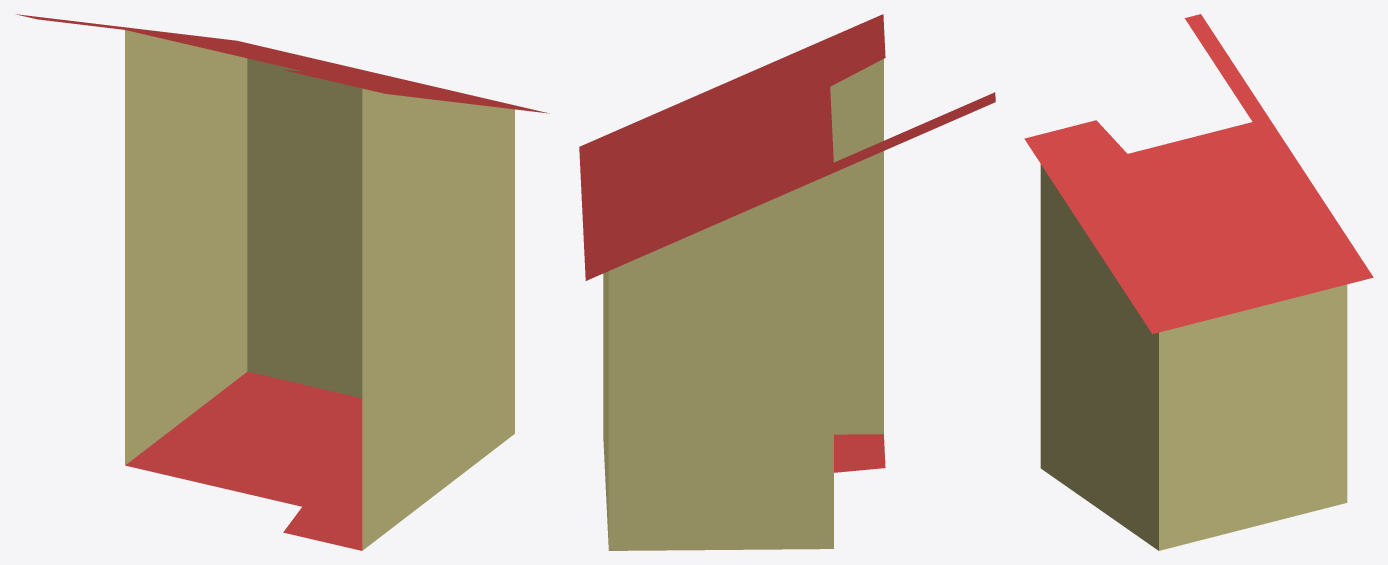
3 renders of one model, left to right at view 1: azimuth 30°, elevation 25°; view 2: azimuth 150°, elevation 25°; view 3: azimuth 270°, elevation 25°, orthographic. The views are drawn at different scales.
Size of the model in its own units: 10.93 by 9.11 by 10.66.
